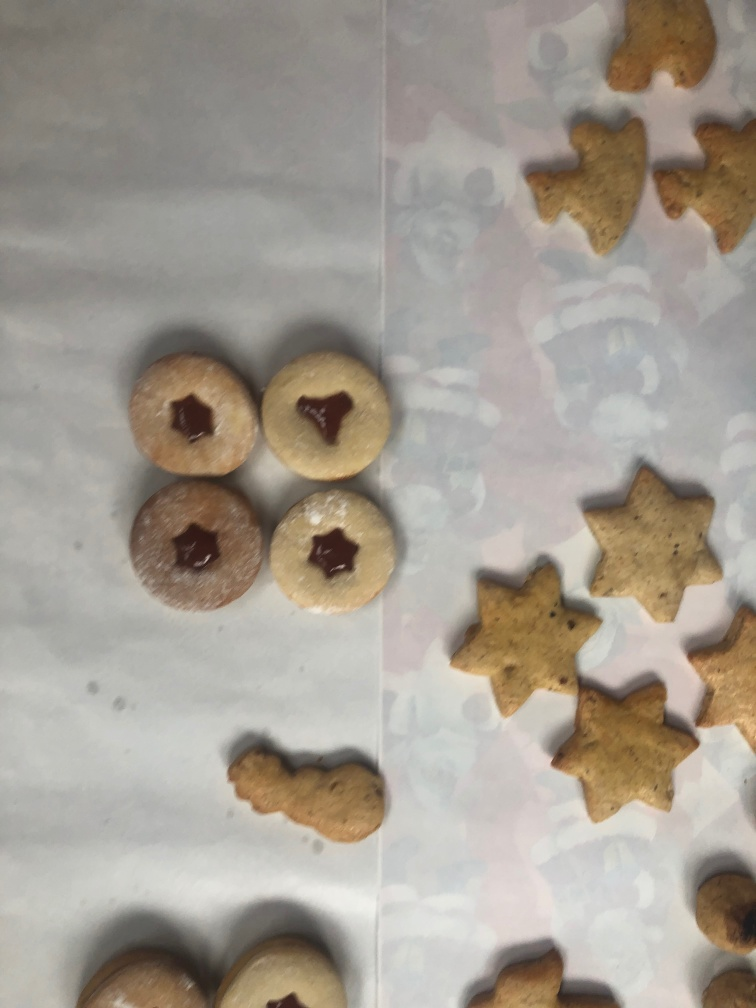christmas shortbread with jam: (127, 475, 266, 618), (126, 344, 267, 476), (270, 485, 413, 615), (263, 340, 393, 481), (214, 935, 347, 1008)
lamb: (522, 99, 659, 253), (646, 104, 756, 261), (597, 1, 728, 95)
snowball: (221, 729, 409, 845), (684, 861, 756, 954)
star: (572, 451, 731, 624), (443, 548, 602, 717), (552, 664, 698, 820), (681, 597, 756, 749)
